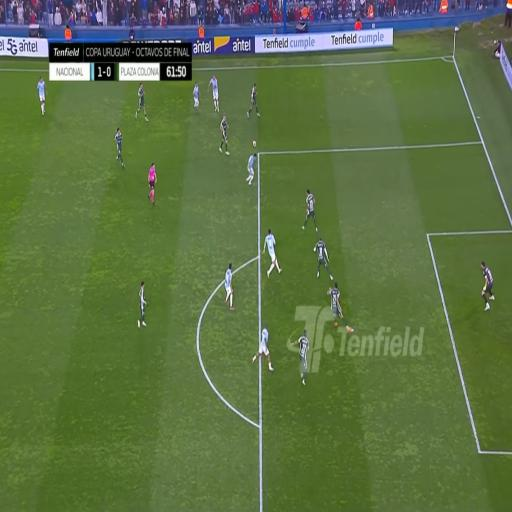Ball: (253, 138, 258, 148)
Goalkeeper: (480, 258, 494, 307)
Player: (266, 223, 281, 278), (255, 328, 273, 368), (296, 326, 308, 384), (327, 282, 343, 324), (217, 113, 229, 161), (224, 261, 234, 314), (246, 82, 258, 119), (210, 73, 220, 114), (315, 235, 327, 269), (136, 280, 145, 324), (38, 76, 47, 116), (302, 189, 312, 225), (116, 124, 124, 165), (139, 83, 146, 125), (248, 152, 256, 188), (193, 82, 201, 109)
Referee: (146, 162, 157, 199)
